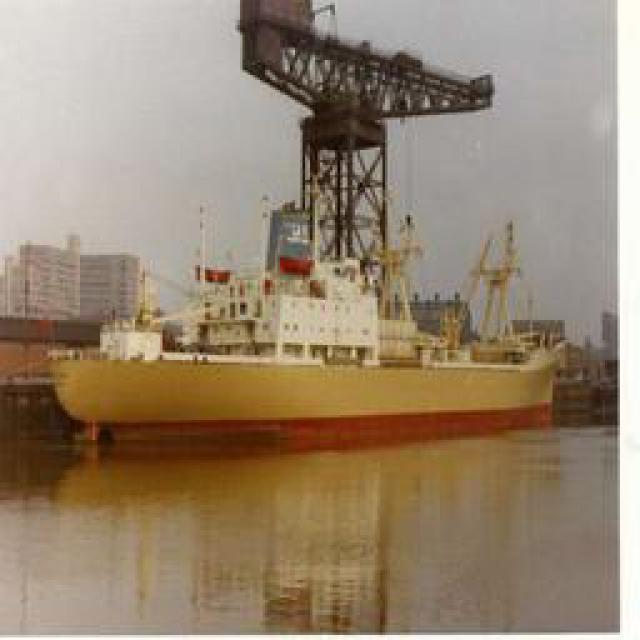Ship: (44, 340, 559, 433)
